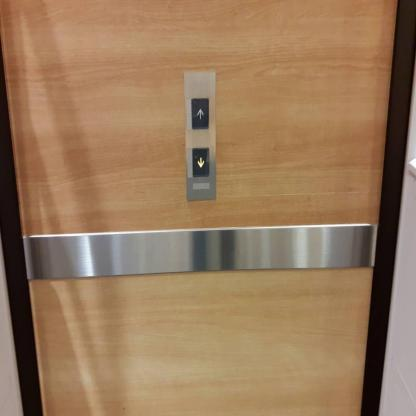down: (192, 147, 210, 178)
up: (191, 98, 209, 130)
